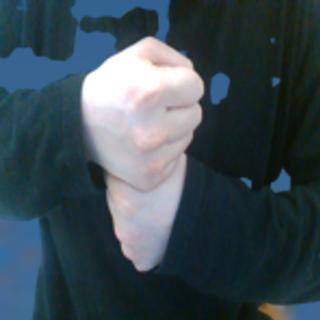CAREFUL: (78, 30, 207, 277)
